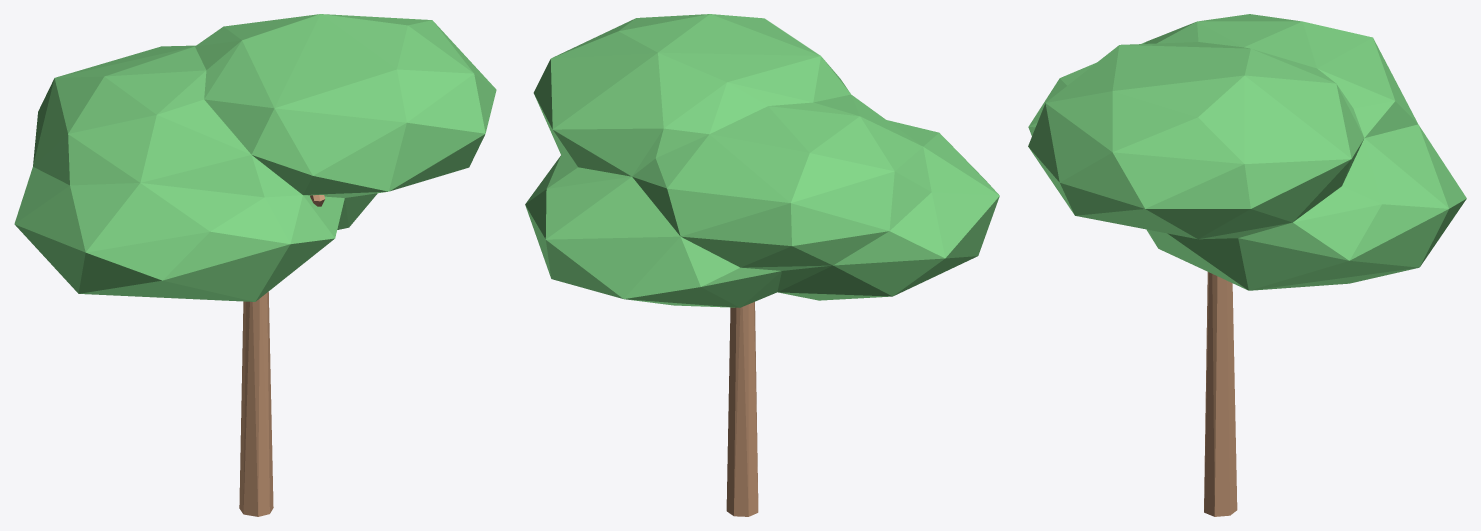
Rendered from tree23.fbx.
3 renders of one model, left to right at view 1: azimuth 30°, elevation 25°; view 2: azimuth 150°, elevation 25°; view 3: azimuth 270°, elevation 25°, orthographic. The views are drawn at different scales.
Parts seen in each view (by area): view 1: treetype23; view 2: treetype23; view 3: treetype23.
Boxes of the visible parts, x1,y1,x2,y2 form: treetype23: [14, 14, 496, 516]; treetype23: [525, 14, 999, 516]; treetype23: [1028, 14, 1466, 516].
Size of the model in its own units: 148 by 154 by 129.
